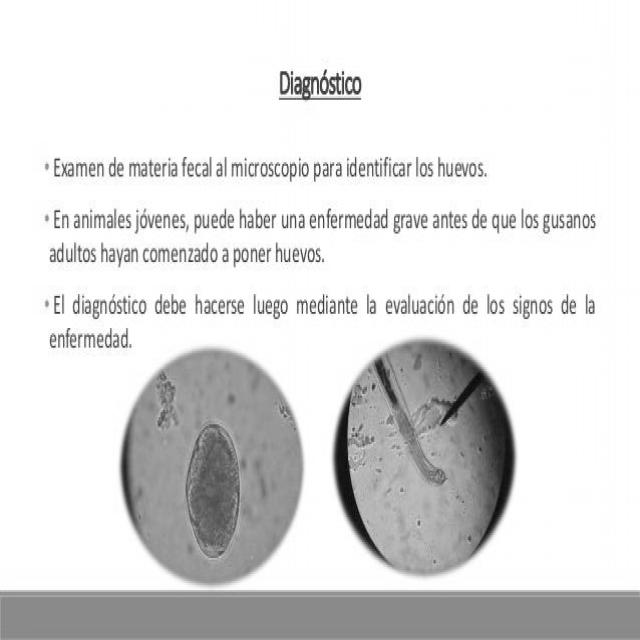Ancylostoma Spp: (179, 413, 242, 566)
